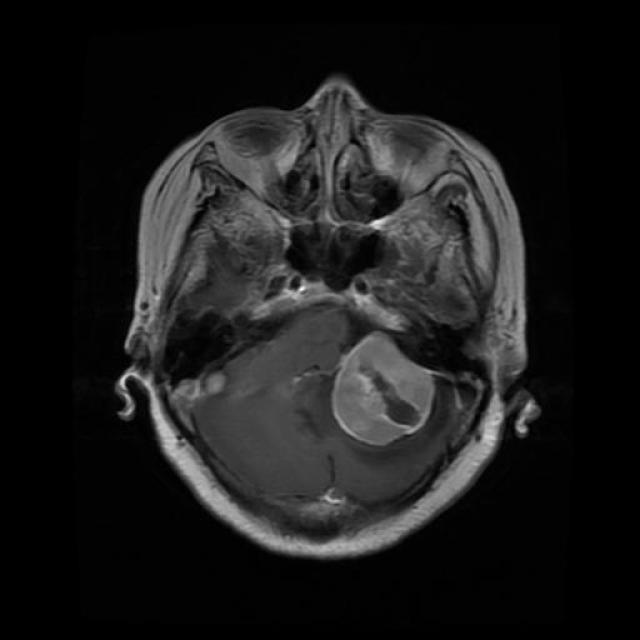meningioma: (331, 331, 436, 446)
